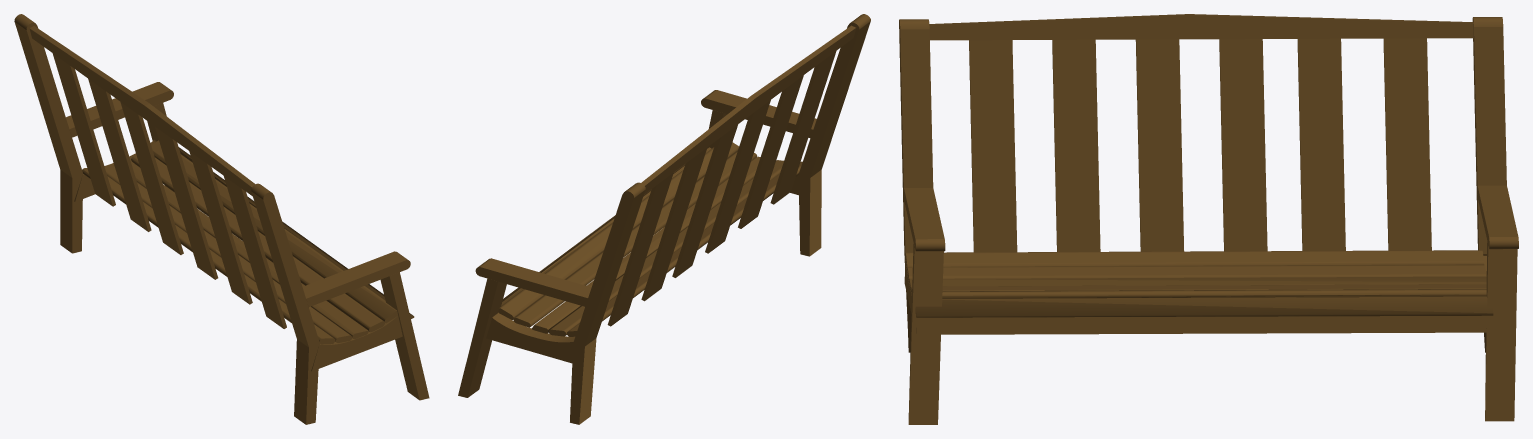
Rendered from CadeiraMdeira.fbx.
3 views of the same model, side by side, from view 1: azimuth 30°, elevation 25°; view 2: azimuth 150°, elevation 25°; view 3: azimuth 270°, elevation 25° (orthographic). The views are drawn at different scales.
Visible parts, largest first — view 1: CadeiraMadeira; view 2: CadeiraMadeira; view 3: CadeiraMadeira.
Boxes of the visible parts, box(x1,y1,x2,y2) form: CadeiraMadeira: box(14, 14, 429, 424); CadeiraMadeira: box(458, 14, 870, 424); CadeiraMadeira: box(899, 14, 1518, 424).
Bounding box in the file's own units: 7.26 × 10.03 × 18.18.
